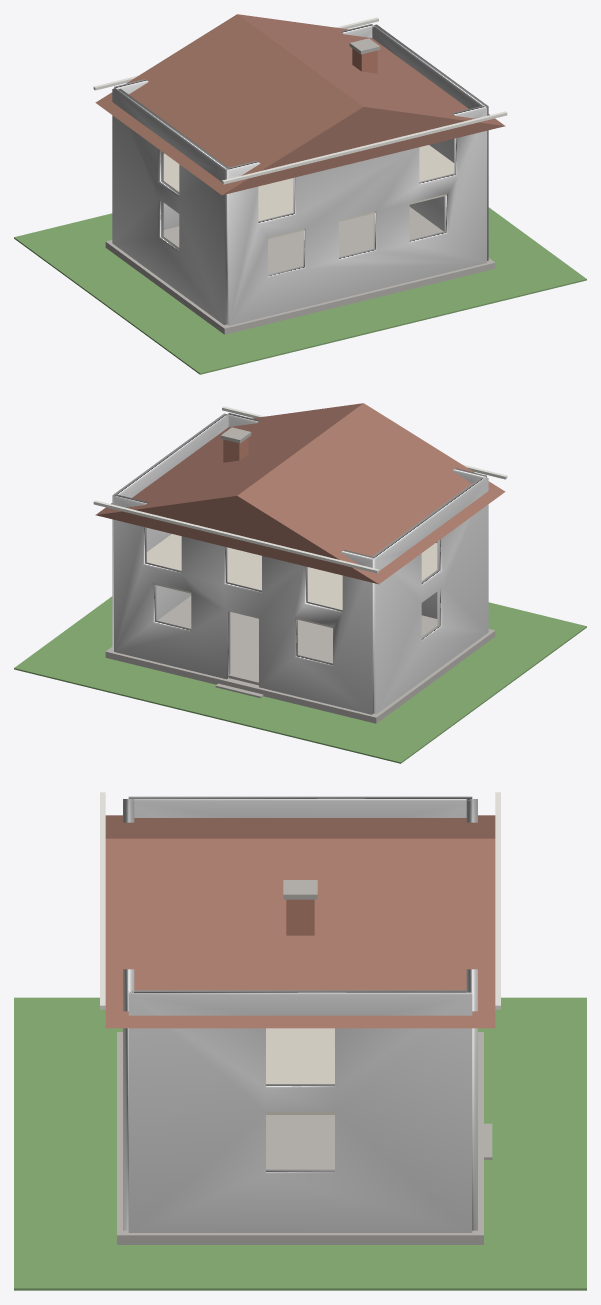
The model's file is two_story_colonial_shell.glb.
3 views of the same model, one above another, from view 1: azimuth 30°, elevation 25°; view 2: azimuth 150°, elevation 25°; view 3: azimuth 270°, elevation 25° (orthographic). The views are drawn at different scales.
Parts seen in each view (by area): view 1: roof, back_wall, lawn, left_wall, foundation, ground_floor, right_wall, upper_floor, back_gutter, front_wall, chimney; view 2: roof, front_wall, lawn, left_wall, upper_floor, ground_floor, foundation, right_wall, front_gutter, back_wall, chimney; view 3: lawn, roof, right_wall, left_wall, foundation, upper_floor, ground_floor, front_wall, back_wall, front_gutter, back_gutter, chimney (+1 smaller).
Boxes of the visible parts, x1,y1,x2,y2 form: roof: (95, 14, 505, 195); back_wall: (226, 106, 486, 325); lawn: (14, 207, 586, 374); left_wall: (112, 88, 229, 324); foundation: (105, 240, 495, 334); ground_floor: (163, 207, 443, 274); right_wall: (372, 24, 488, 260); upper_floor: (162, 145, 454, 239); back_gutter: (222, 111, 507, 184); front_wall: (114, 24, 374, 229); chimney: (352, 48, 377, 73); roof: (95, 403, 505, 584); front_wall: (114, 494, 374, 714); lawn: (14, 596, 586, 763); left_wall: (371, 477, 488, 713); upper_floor: (146, 534, 438, 628); ground_floor: (157, 596, 437, 685); foundation: (105, 629, 495, 723); right_wall: (112, 413, 229, 649); front_gutter: (93, 500, 378, 573); back_wall: (226, 413, 486, 618); chimney: (223, 437, 248, 462); lawn: (14, 997, 586, 1290); roof: (105, 815, 495, 1028); right_wall: (128, 990, 472, 1232); left_wall: (128, 796, 472, 817); foundation: (117, 1032, 483, 1244); upper_floor: (266, 1028, 334, 1114); ground_floor: (266, 1115, 334, 1169); front_wall: (466, 799, 477, 1230); back_wall: (123, 799, 134, 1230); front_gutter: (495, 792, 500, 1009); back_gutter: (100, 792, 105, 1009); chimney: (286, 899, 314, 935).
Bounding box in the file's own units: 12 × 5.9 × 10.
